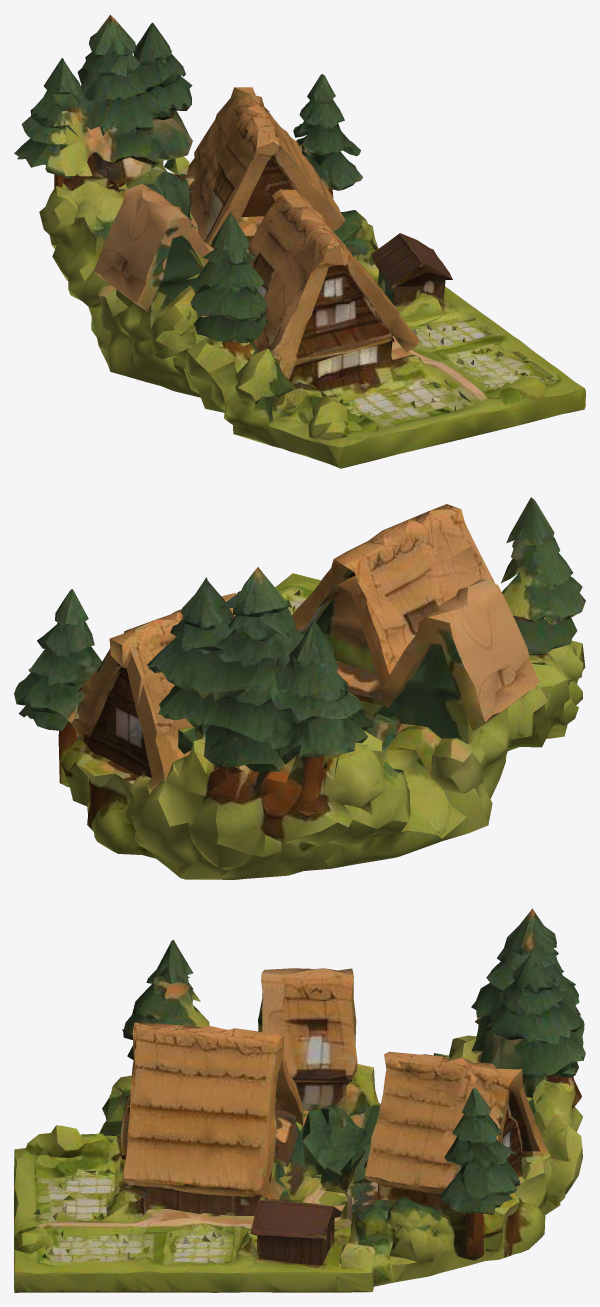
File: shirakawa-go.glb
3 renders of one model, top to bottom at view 1: azimuth 30°, elevation 25°; view 2: azimuth 150°, elevation 25°; view 3: azimuth 270°, elevation 25°, orthographic. The views are drawn at different scales.
Visible parts, largest first — view 1: logan-textured.obj; view 2: logan-textured.obj; view 3: logan-textured.obj.
Part boxes in pixels (left/top/right/bottom): logan-textured.obj: left=14, top=14, right=585, bottom=468; logan-textured.obj: left=14, top=497, right=585, bottom=879; logan-textured.obj: left=14, top=908, right=585, bottom=1292.
Size of the model in its own units: 0.6858 by 0.5286 by 1.
1 material, 1 textured.
